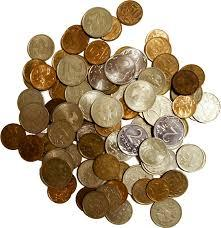coin: (1, 2, 218, 228), (89, 91, 125, 127), (105, 51, 140, 85), (58, 53, 86, 87), (47, 117, 77, 146), (94, 153, 122, 181), (83, 7, 111, 35), (141, 138, 167, 163)
